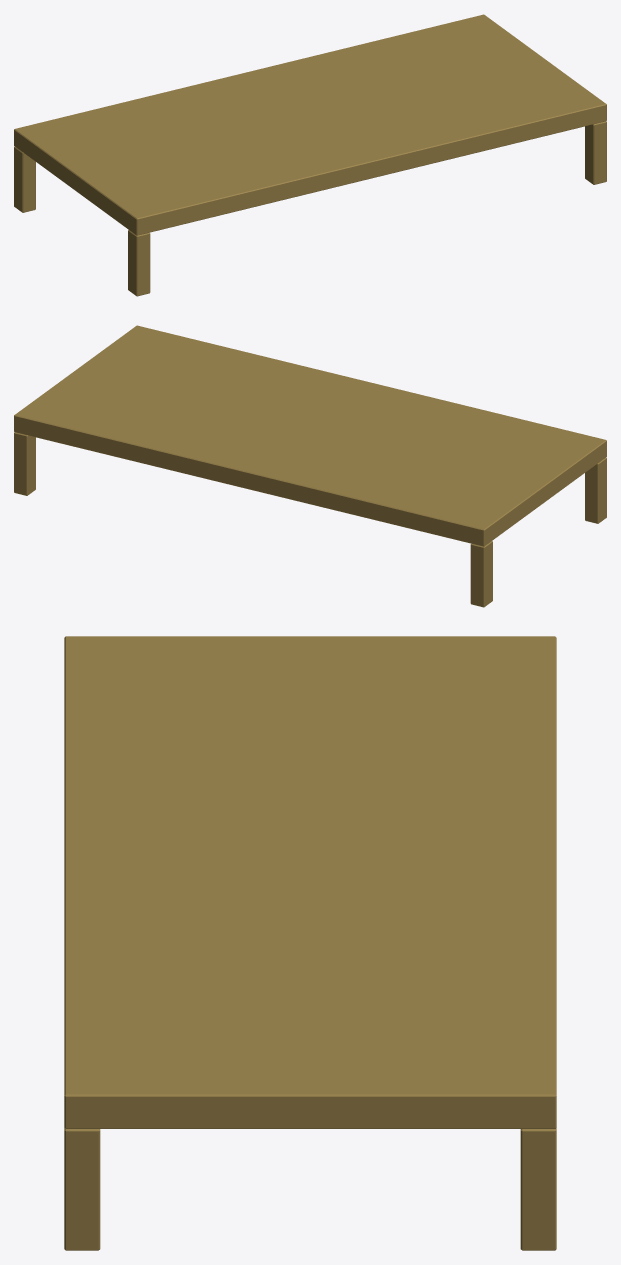
File: LowTableGeo.fbx
3 views of the same model, one above another, from view 1: azimuth 30°, elevation 25°; view 2: azimuth 150°, elevation 25°; view 3: azimuth 270°, elevation 25° (orthographic). The views are drawn at different scales.
Parts seen in each view (by area): view 1: LowTableGeo; view 2: LowTableGeo; view 3: LowTableGeo.
Boxes of the visible parts, left/top/right/bottom form: LowTableGeo: left=14, top=14, right=606, bottom=296; LowTableGeo: left=14, top=325, right=606, bottom=607; LowTableGeo: left=64, top=636, right=556, bottom=1250.
Size of the model in its own units: 533 by 84.47 by 241.
